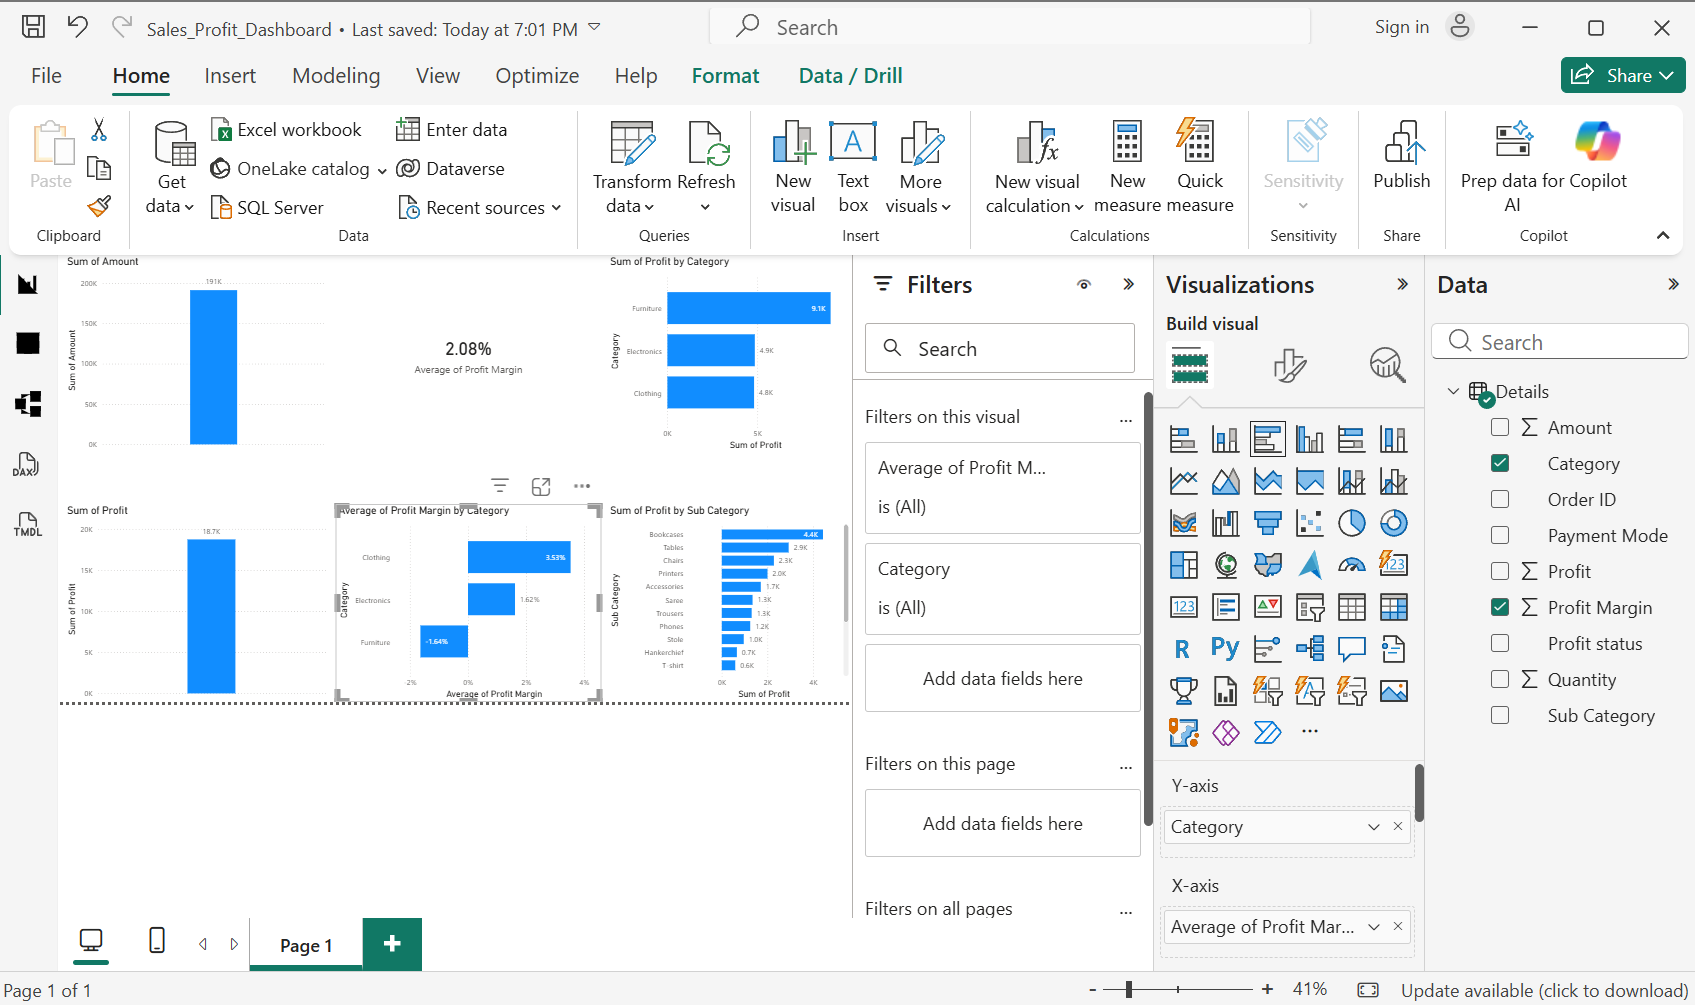

The dashboard page shown, as its layout file describes it:
{"tool":"powerbi","page":{"name":"Page 1","canvas":[1280,720],"ordinal":0},"visuals":[{"type":"clusteredColumnChart","fields":{"Y":["Sum(Details.Profit)"]},"box":[10,401,428,319],"z":0},{"type":"clusteredColumnChart","fields":{"Y":["Sum(Details.Amount)"]},"box":[10,0,428,319],"z":1000},{"type":"card","fields":{"Values":["Avg(Details.Profit Margin)"]},"box":[448,0,428,319],"z":2000},{"type":"clusteredBarChart","fields":{"Y":["Sum(Details.Profit)"],"Category":["Details.Category"]},"box":[886,0,394,319],"z":2001},{"type":"clusteredBarChart","fields":{"Y":["Avg(Details.Profit Margin)"],"Category":["Details.Category"]},"box":[448,401,428,319],"z":2002},{"type":"clusteredBarChart","fields":{"Category":["Details.Sub Category"],"Y":["Sum(Details.Profit)"]},"box":[886,401,394,319],"z":2003}]}

Visuals, with their boxes on the page's 1280x720 design canvas (x1, y1, x2, y2). These are canvas units, not pixel positions in the 1695x1005 screenshot, which may show the page scaled, cropped or inside an application window:
clusteredColumnChart - Sum(Details.Profit): x1=10 y1=401 x2=438 y2=720
clusteredColumnChart - Sum(Details.Amount): x1=10 y1=0 x2=438 y2=319
card - Avg(Details.Profit Margin): x1=448 y1=0 x2=876 y2=319
clusteredBarChart - Sum(Details.Profit) x Details.Category: x1=886 y1=0 x2=1280 y2=319
clusteredBarChart - Avg(Details.Profit Margin) x Details.Category: x1=448 y1=401 x2=876 y2=720
clusteredBarChart - Details.Sub Category x Sum(Details.Profit): x1=886 y1=401 x2=1280 y2=720
